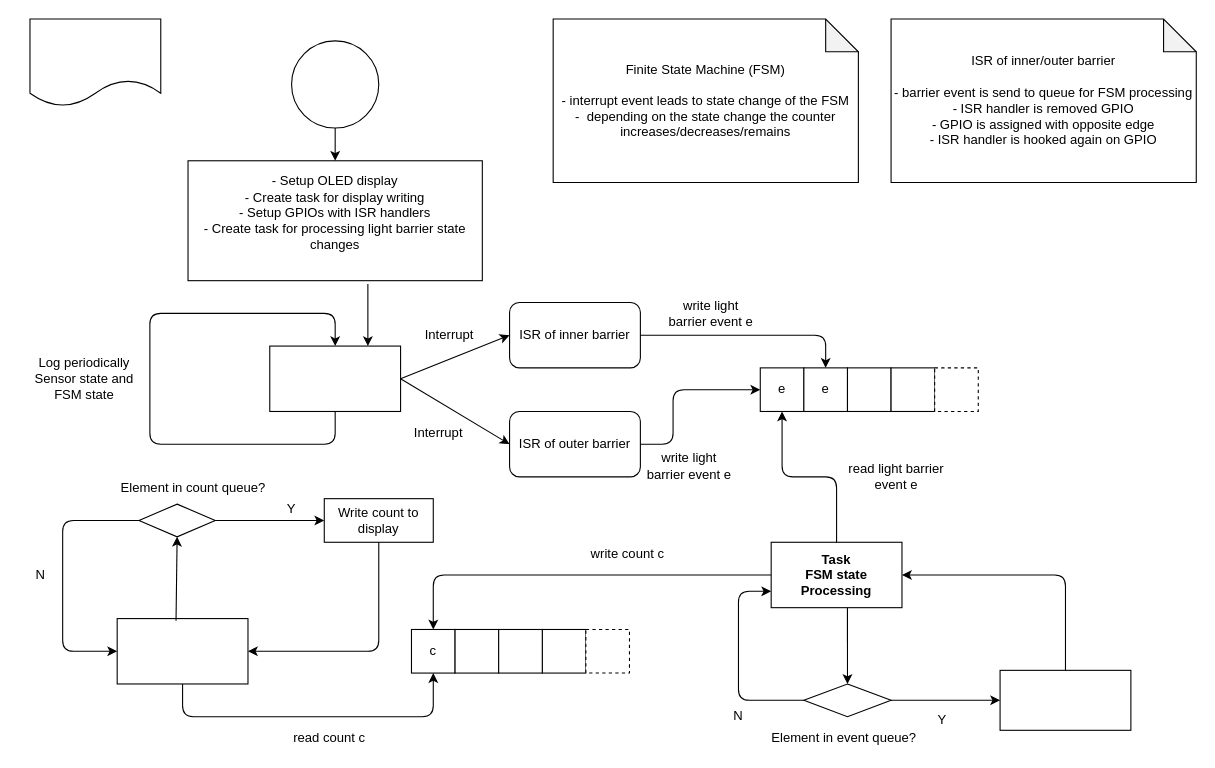
This 1215x768 diagram has some shape labels left out. The box of each missing label's shape, as (x1, y1, x2, y2) in pixels:
Assignment 2 - Light Barrier: (29, 18, 161, 106)
Enter sleep mode: (269, 345, 401, 411)
Make state change in FSM: (999, 669, 1131, 730)
Start: (290, 40, 379, 128)
Task Display Writing: (116, 617, 248, 684)
